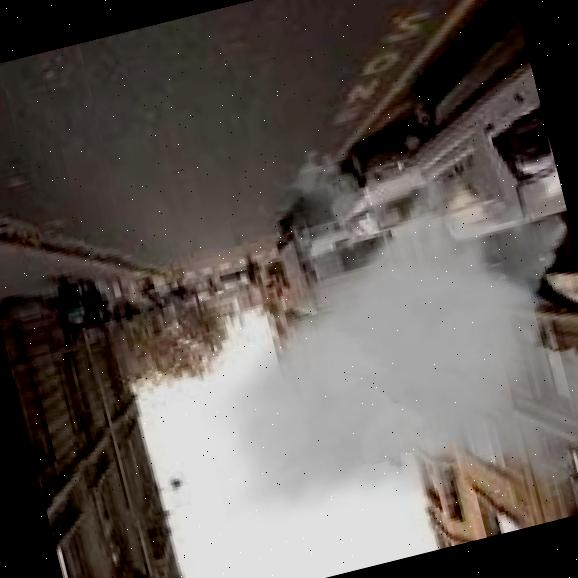smoke: (145, 91, 578, 577)
